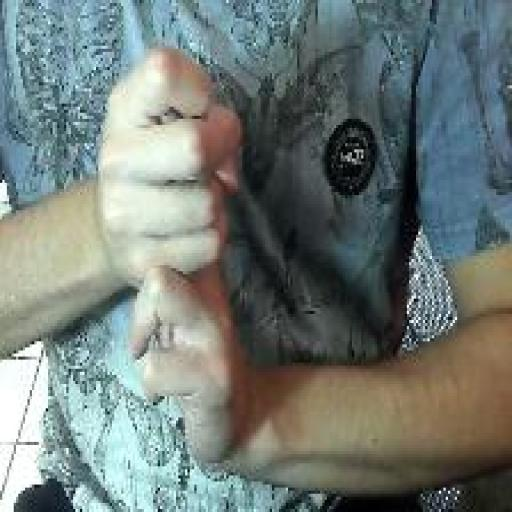Ne -rat-: (94, 40, 247, 469)
